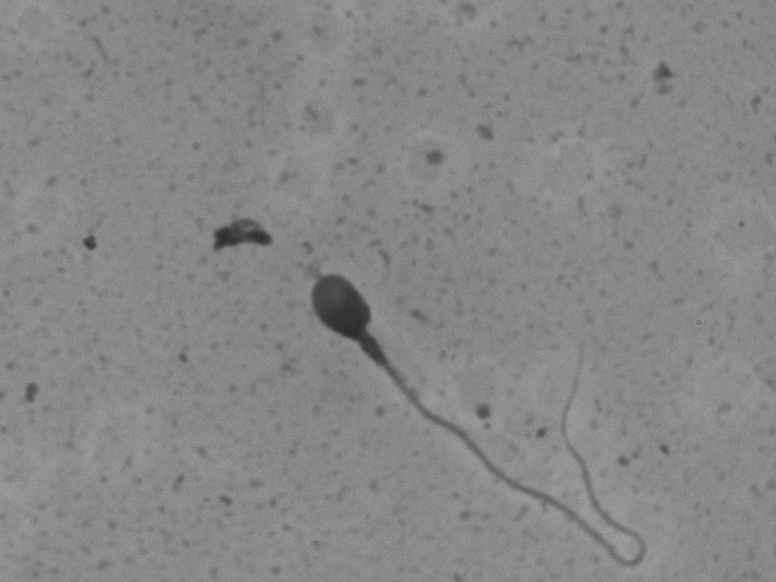Abnormal: (294, 248, 672, 576)
